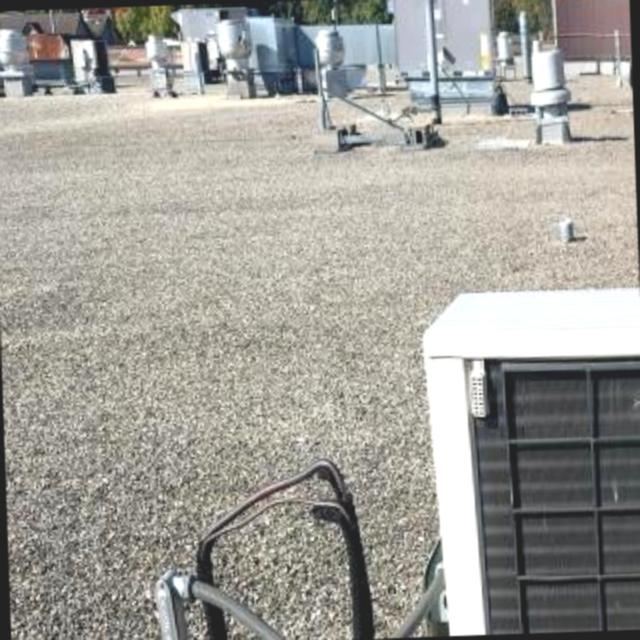SPLIT-SYSTEM: (403, 273, 640, 637)
